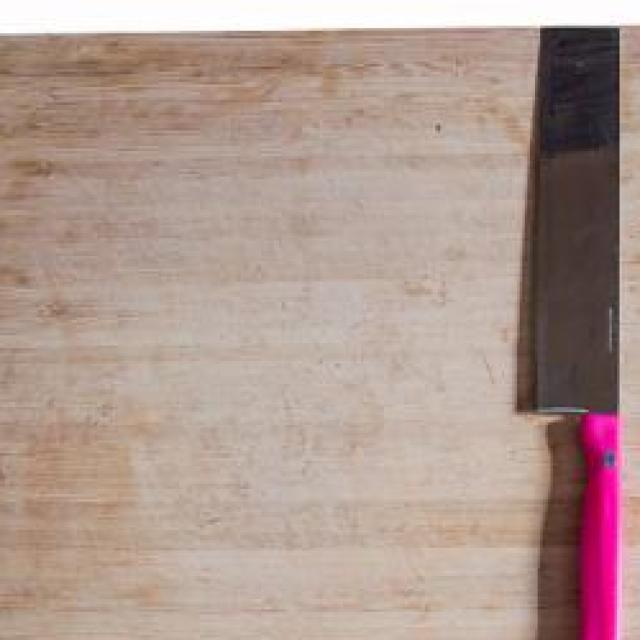knife: (528, 23, 628, 640)
